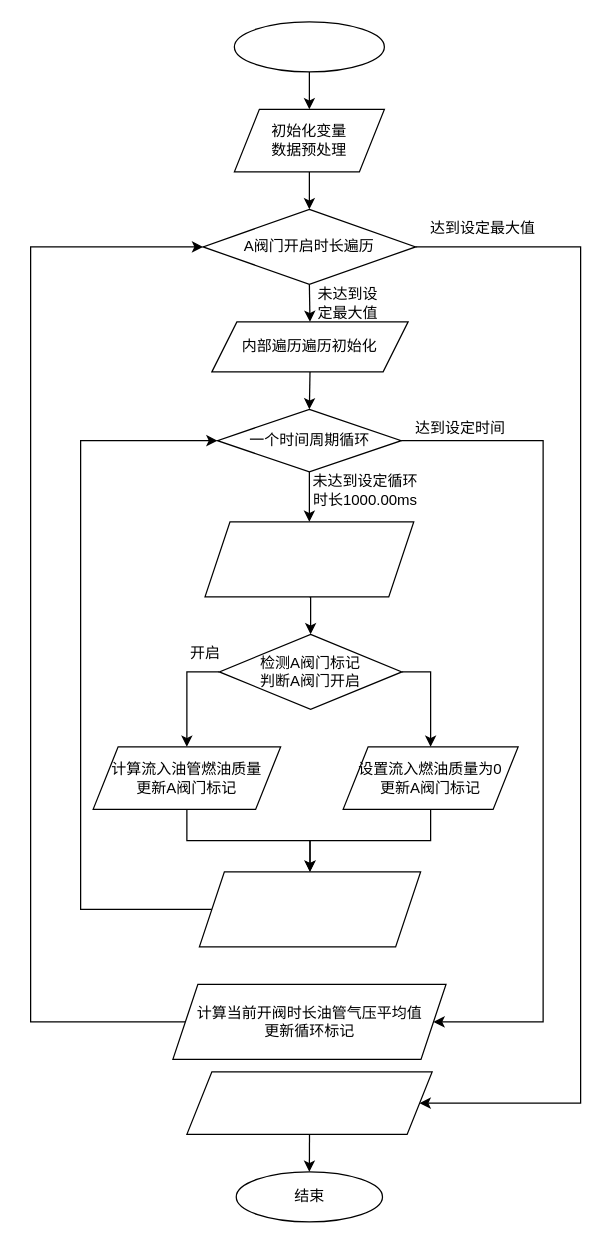
This 613x1244 diagram has some shape labels left out. Each missing label, with the box of its shape:
开始: (233, 21, 384, 72)
计算最终油管内燃油质量 计算密度 反解出当前压强并且存储 更新循环标记: (198, 871, 421, 947)
计算油管内初始密度 和单位时间内流入流量: (204, 521, 414, 597)
选着需要的数据 保存到本地存储: (186, 1071, 432, 1134)
